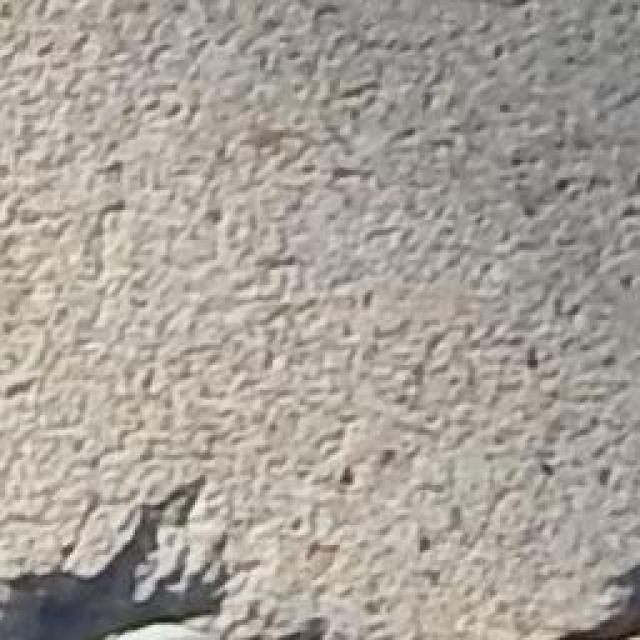concrete-crack: (1, 465, 264, 640)
